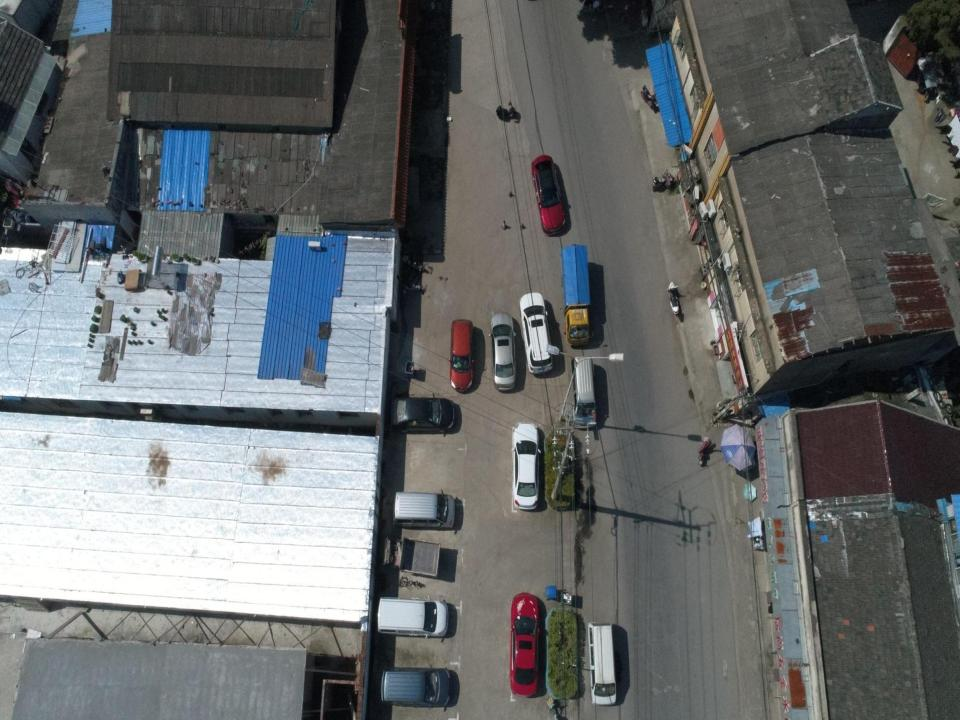car: (509, 594, 538, 697), (530, 155, 566, 236), (382, 667, 452, 707), (520, 292, 552, 376), (509, 422, 538, 512), (391, 396, 454, 434), (490, 312, 516, 393), (449, 320, 473, 394)
truck: (560, 244, 590, 347)
van: (378, 597, 448, 640), (586, 621, 617, 707), (394, 492, 455, 530), (571, 356, 596, 428)
